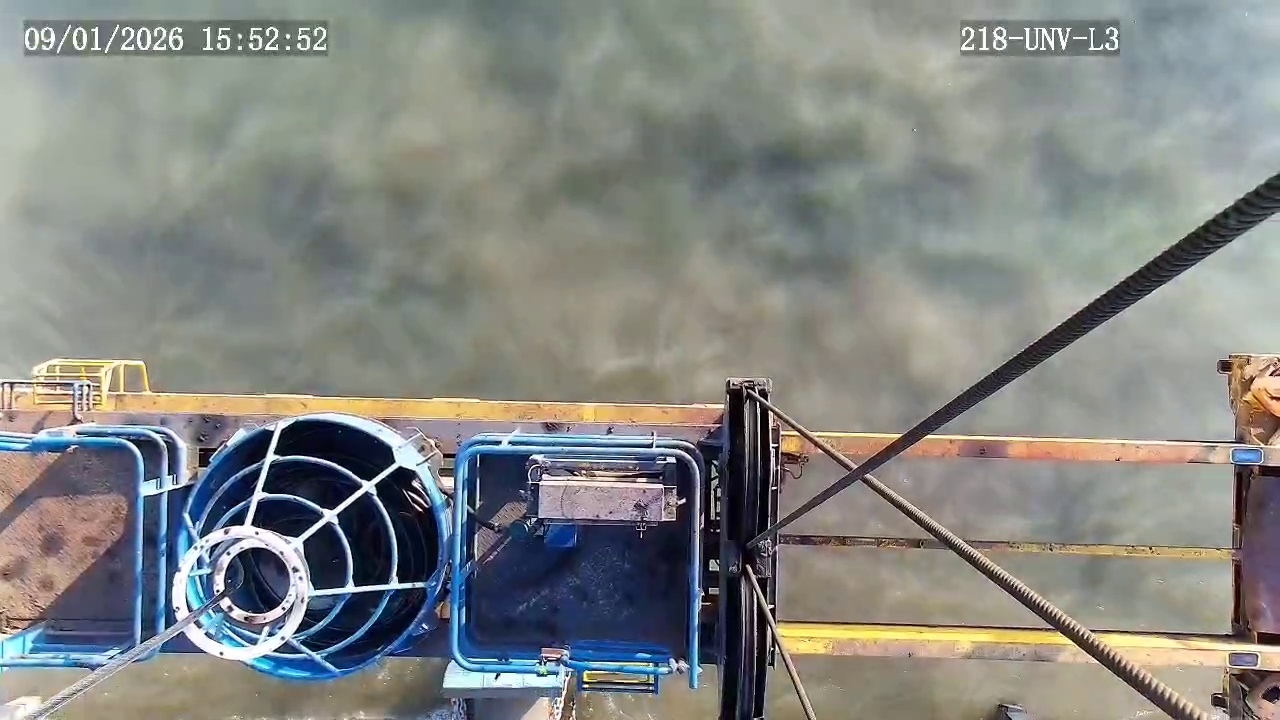right: (178, 417, 444, 679)
